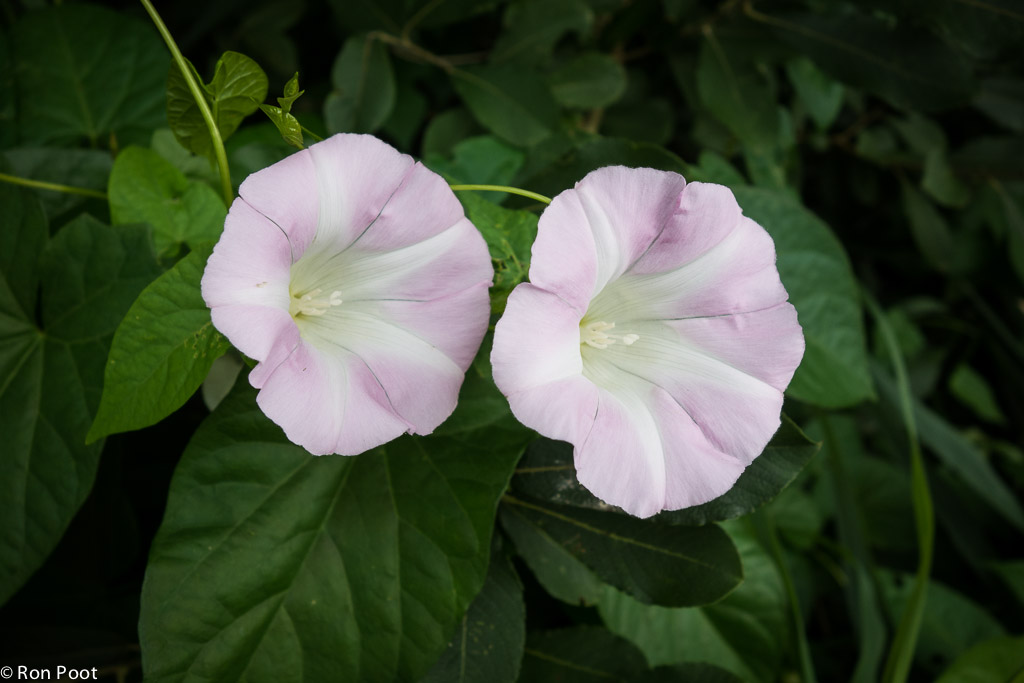haagwinde: (499, 131, 821, 525), (189, 110, 499, 469)
